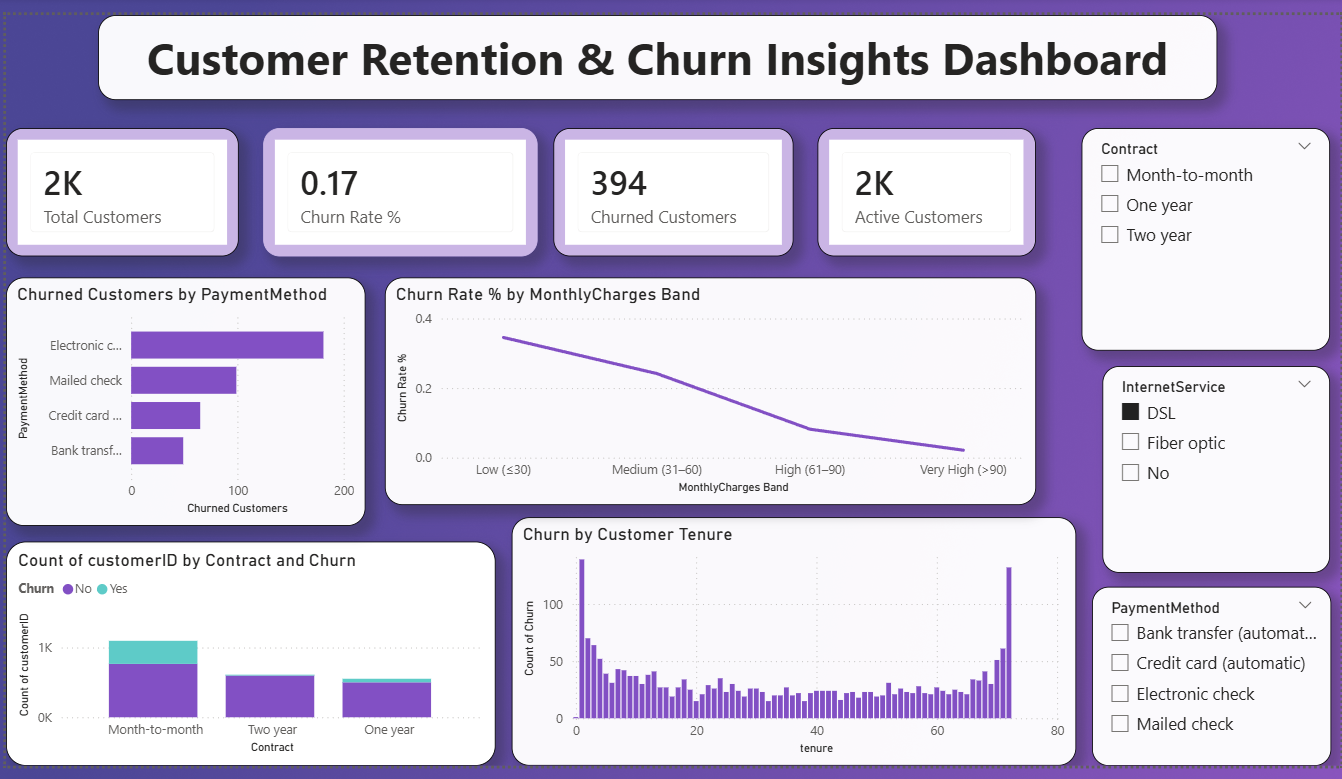

What the dashboard file says about the page in this screenshot:
{"tool":"powerbi","page":{"name":"Page 1","canvas":[1280,720],"ordinal":0},"visuals":[{"type":"cardVisual","fields":{"Data":["WA_Fn-UseC_-Telco-Customer-Churn.Total Customers"]},"box":[0,107.7,223.1,123.1],"z":0},{"type":"cardVisual","fields":{"Data":["WA_Fn-UseC_-Telco-Customer-Churn.Churned Customers"]},"box":[524.6,107.7,230.8,123.1],"z":1},{"type":"cardVisual","fields":{"Data":["WA_Fn-UseC_-Telco-Customer-Churn.Active Customers"]},"box":[778.5,107.7,209.2,123.1],"z":2},{"type":"cardVisual","fields":{"Data":["WA_Fn-UseC_-Telco-Customer-Churn.Churn Rate %"]},"box":[246.2,107.7,263.1,123.1],"z":3},{"type":"columnChart","fields":{"Category":["WA_Fn-UseC_-Telco-Customer-Churn.Contract"],"Y":["CountNonNull(WA_Fn-UseC_-Telco-Customer-Churn.customerID)"],"Series":["WA_Fn-UseC_-Telco-Customer-Churn.Churn"]},"box":[0,504.6,469.2,215.4],"z":4},{"type":"clusteredColumnChart","title":"Churn by Customer Tenure","fields":{"Category":["WA_Fn-UseC_-Telco-Customer-Churn.tenure"],"Y":["CountNonNull(WA_Fn-UseC_-Telco-Customer-Churn.Churn)"]},"box":[484.6,481.5,541.5,238.5],"z":5},{"type":"barChart","fields":{"Category":["WA_Fn-UseC_-Telco-Customer-Churn.PaymentMethod"],"Y":["WA_Fn-UseC_-Telco-Customer-Churn.Churned Customers"]},"box":[0,252.3,344.6,238.5],"z":6},{"type":"lineChart","fields":{"Y":["WA_Fn-UseC_-Telco-Customer-Churn.Churn Rate %"],"Category":["WA_Fn-UseC_-Telco-Customer-Churn.MonthlyCharges Band"]},"box":[363.1,252.3,624.6,218.5],"z":7},{"type":"slicer","fields":{"Values":["WA_Fn-UseC_-Telco-Customer-Churn.Contract"]},"box":[1032.3,107.7,238.5,213.8],"z":8},{"type":"slicer","fields":{"Values":["WA_Fn-UseC_-Telco-Customer-Churn.InternetService"]},"box":[1052.3,336.9,218.5,198.5],"z":9},{"type":"slicer","fields":{"Values":["WA_Fn-UseC_-Telco-Customer-Churn.PaymentMethod"]},"box":[1041.5,547.7,229.2,172.3],"z":10},{"type":"textbox","box":[87.7,0,1073.8,81.5],"z":11}]}

Visuals, with their boxes in screenshot pixels (x1, y1, x2, y2):
cardVisual - WA_Fn-UseC_-Telco-Customer-Churn.Total Customers: x1=10, y1=125, x2=241, y2=253
cardVisual - WA_Fn-UseC_-Telco-Customer-Churn.Churned Customers: x1=553, y1=125, x2=792, y2=253
cardVisual - WA_Fn-UseC_-Telco-Customer-Churn.Active Customers: x1=815, y1=125, x2=1032, y2=253
cardVisual - WA_Fn-UseC_-Telco-Customer-Churn.Churn Rate %: x1=265, y1=125, x2=537, y2=253
columnChart - WA_Fn-UseC_-Telco-Customer-Churn.Contract x CountNonNull(WA_Fn-UseC_-Telco-Customer-Churn.customerID): x1=10, y1=536, x2=496, y2=758
"Churn by Customer Tenure" clusteredColumnChart: x1=512, y1=512, x2=1071, y2=758
barChart - WA_Fn-UseC_-Telco-Customer-Churn.PaymentMethod x WA_Fn-UseC_-Telco-Customer-Churn.Churned Customers: x1=10, y1=275, x2=367, y2=521
lineChart - WA_Fn-UseC_-Telco-Customer-Churn.Churn Rate % x WA_Fn-UseC_-Telco-Customer-Churn.MonthlyCharges Band: x1=386, y1=275, x2=1032, y2=501
slicer - WA_Fn-UseC_-Telco-Customer-Churn.Contract: x1=1078, y1=125, x2=1324, y2=346
slicer - WA_Fn-UseC_-Telco-Customer-Churn.InternetService: x1=1098, y1=362, x2=1324, y2=568
slicer - WA_Fn-UseC_-Telco-Customer-Churn.PaymentMethod: x1=1087, y1=580, x2=1324, y2=758
textbox: x1=101, y1=14, x2=1211, y2=98
